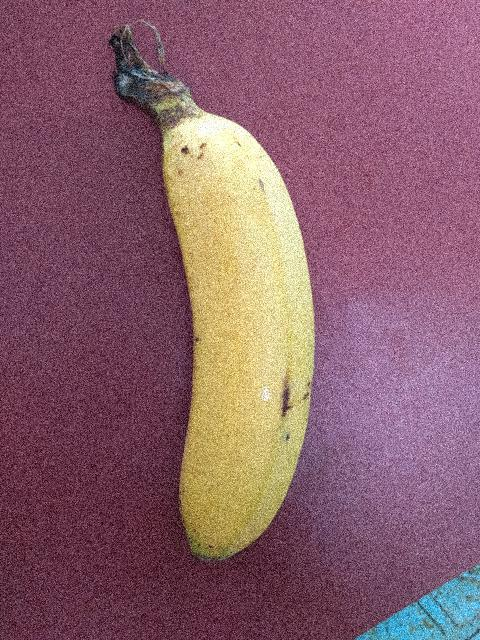freshripe: (151, 96, 347, 579)
